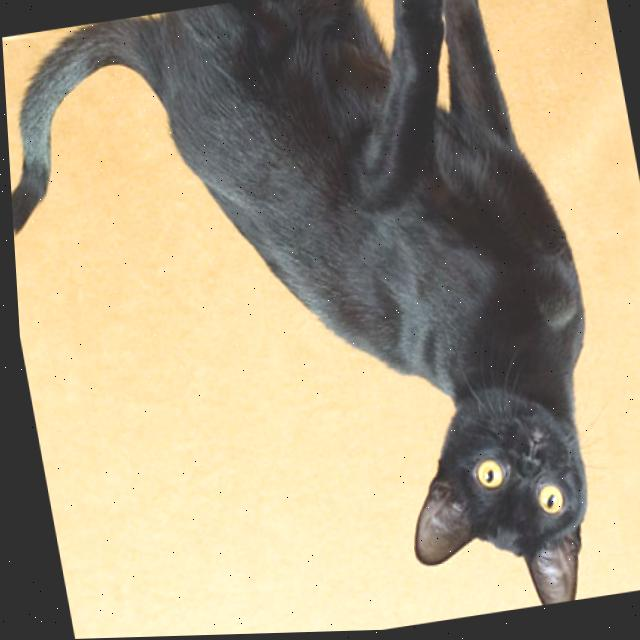Bombay: (0, 0, 633, 640)
